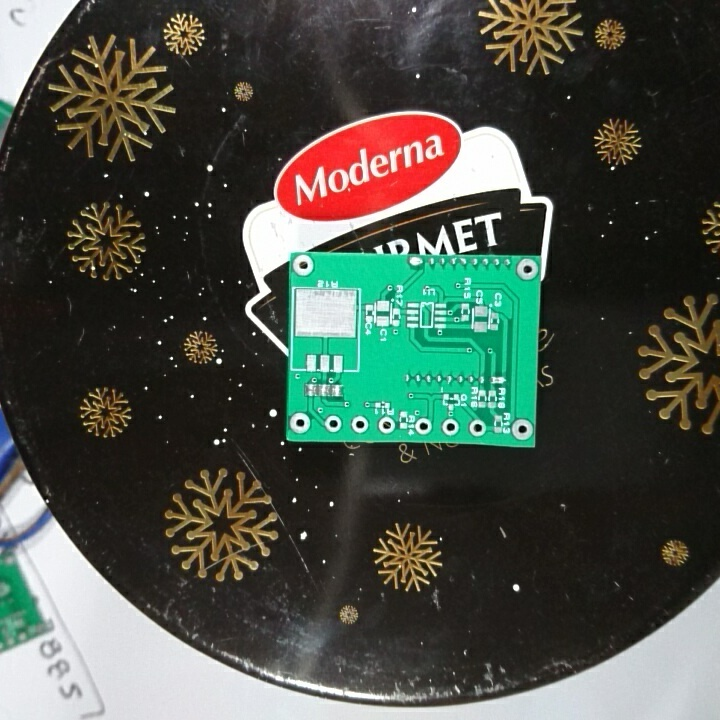F: (292, 252, 316, 278), (515, 258, 539, 283), (288, 411, 312, 435), (510, 417, 533, 440), (413, 415, 436, 437), (350, 415, 371, 435), (440, 417, 461, 437), (324, 414, 343, 434), (468, 418, 487, 438), (377, 416, 396, 435)
P: (406, 253, 426, 272), (489, 374, 508, 388)
